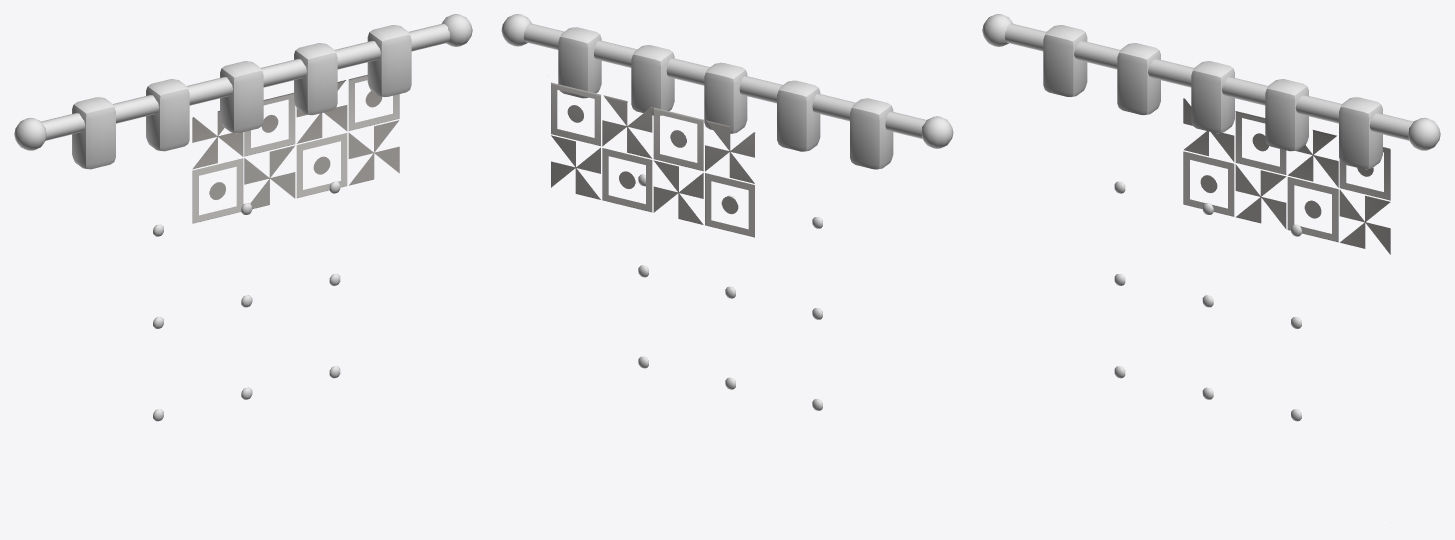
The model's file is quilt_square.fbx.
3 renders of one model, left to right at view 1: azimuth 30°, elevation 25°; view 2: azimuth 150°, elevation 25°; view 3: azimuth 330°, elevation 25°, orthographic.
Parts seen in each view (by area): view 1: quilt_square; view 2: quilt_square; view 3: quilt_square.
Part boxes in pixels (x1,y1,x2,y2): quilt_square: [14, 14, 472, 421]; quilt_square: [501, 14, 953, 410]; quilt_square: [982, 14, 1440, 421].
Size of the model in its own units: 4.76 by 4.17 by 0.4175.
